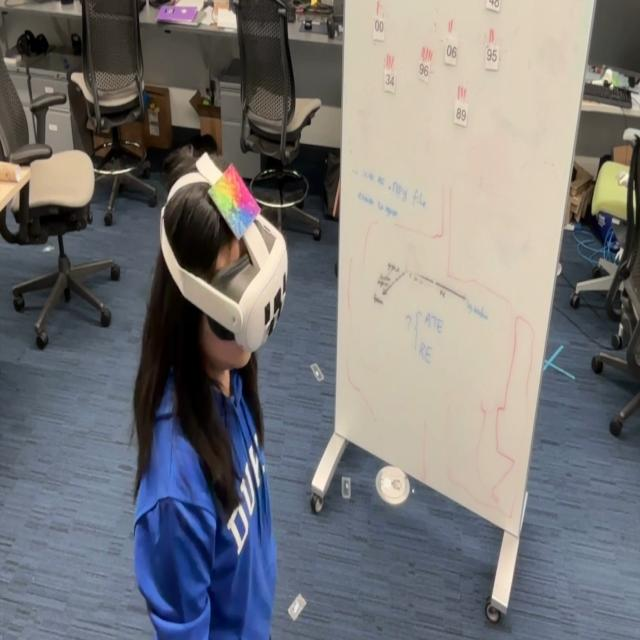Headset: (159, 170, 288, 353)
Marker: (205, 172, 260, 243)
